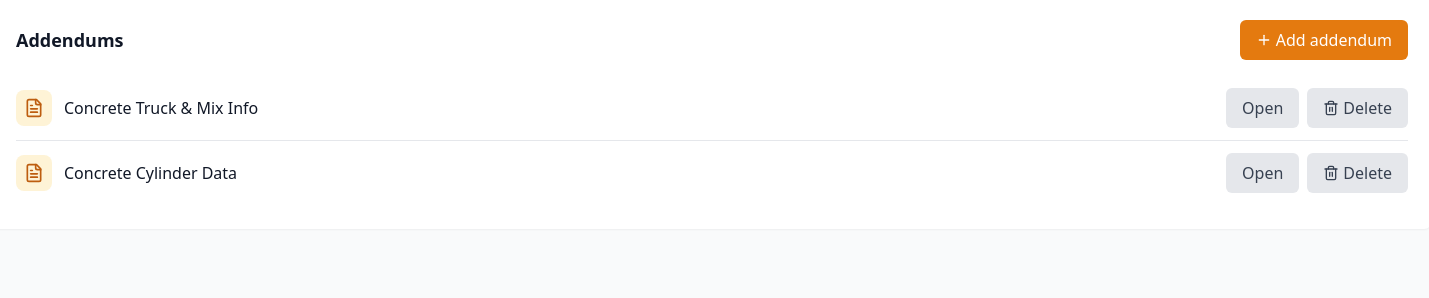
Test: AddendumsSection — add › shows an error and stays put when adding fails
This screenshot has width=1429, height=298.
What coordinates should you click on to do the following:
click the button "Add addendum"
I would click on:
 (1324, 40)
Its box is [1240,20,1408,60].
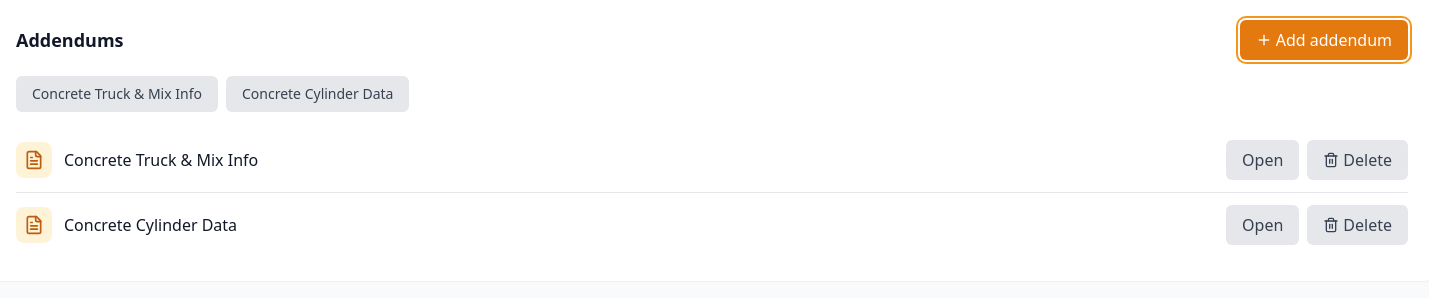
What coordinates should you click on to do the following:
click the button "Concrete Truck & Mix Info"
I would click on:
 (117, 94)
Its box is [16,76,218,112].
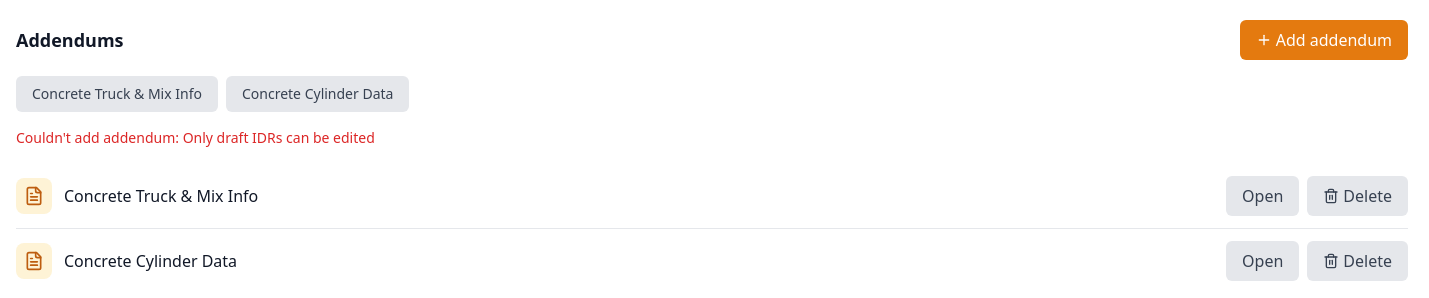
Check: the message reads "Couldn't add addendum: Only draft IDRs can be edited", box [16,128,375,147]
